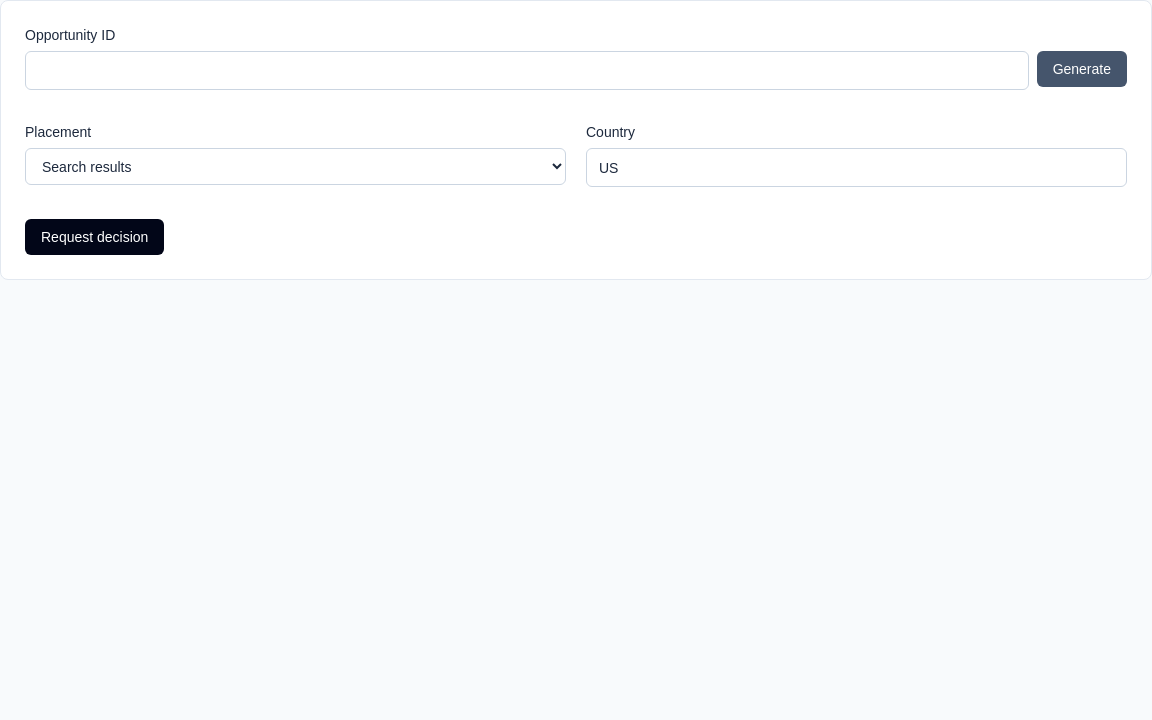
Test case: DecisionLab › shows disabled diagnostics and enabled explanations
Type "51000000-0000-4000-8000-000000000001" into the field labelled "Opportunity ID" at coordinates (527, 70), box top-left (25, 51), bottom-right (1029, 90)
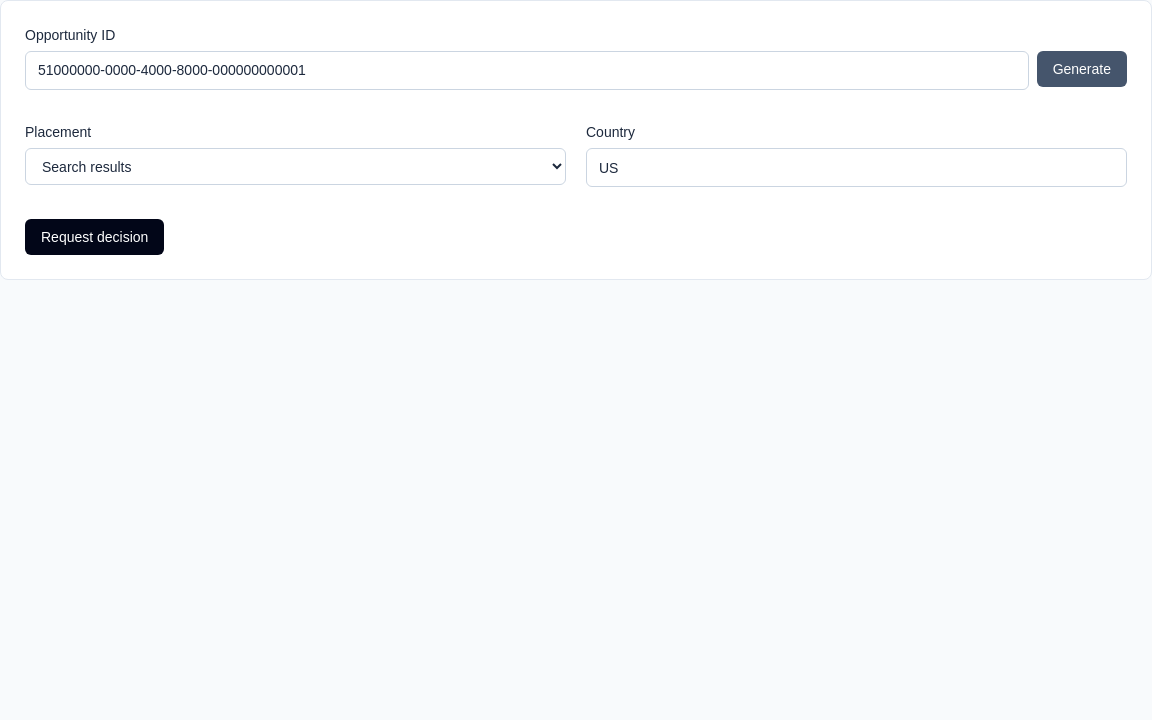
Replace the text in the field labelled "Country" with "us" at coordinates (856, 168), box top-left (586, 148), bottom-right (1127, 187)
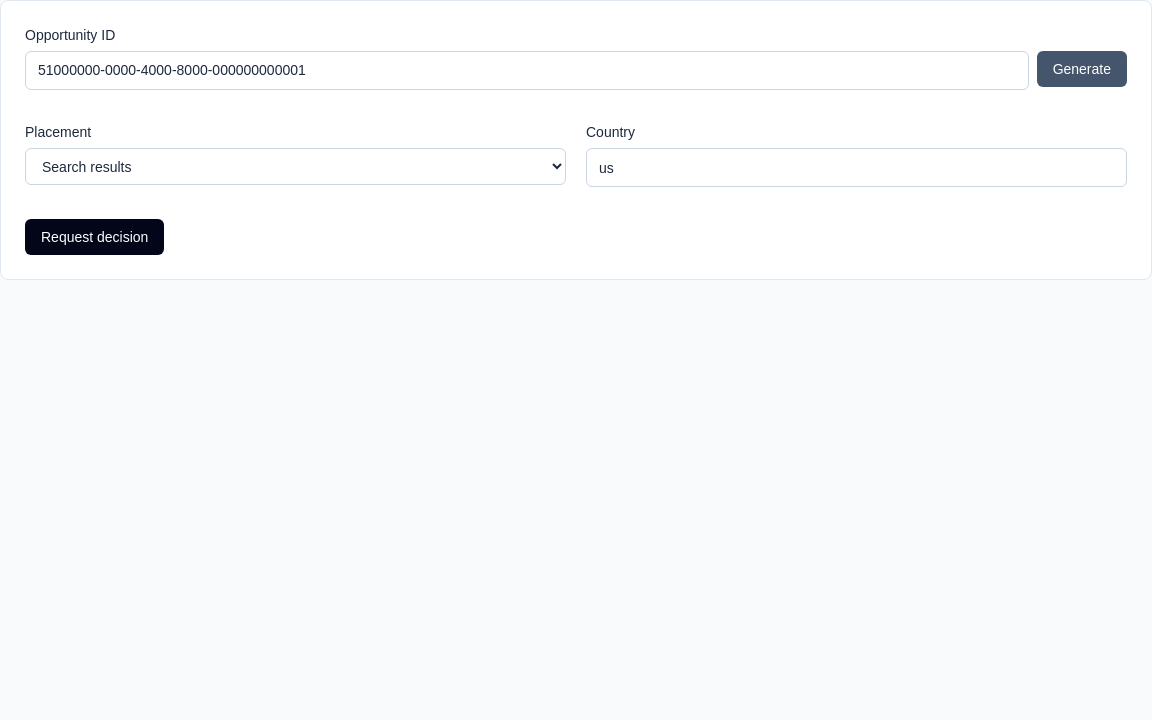
Click the button "Request decision" at coordinates (95, 237), box top-left (25, 219), bottom-right (164, 255)
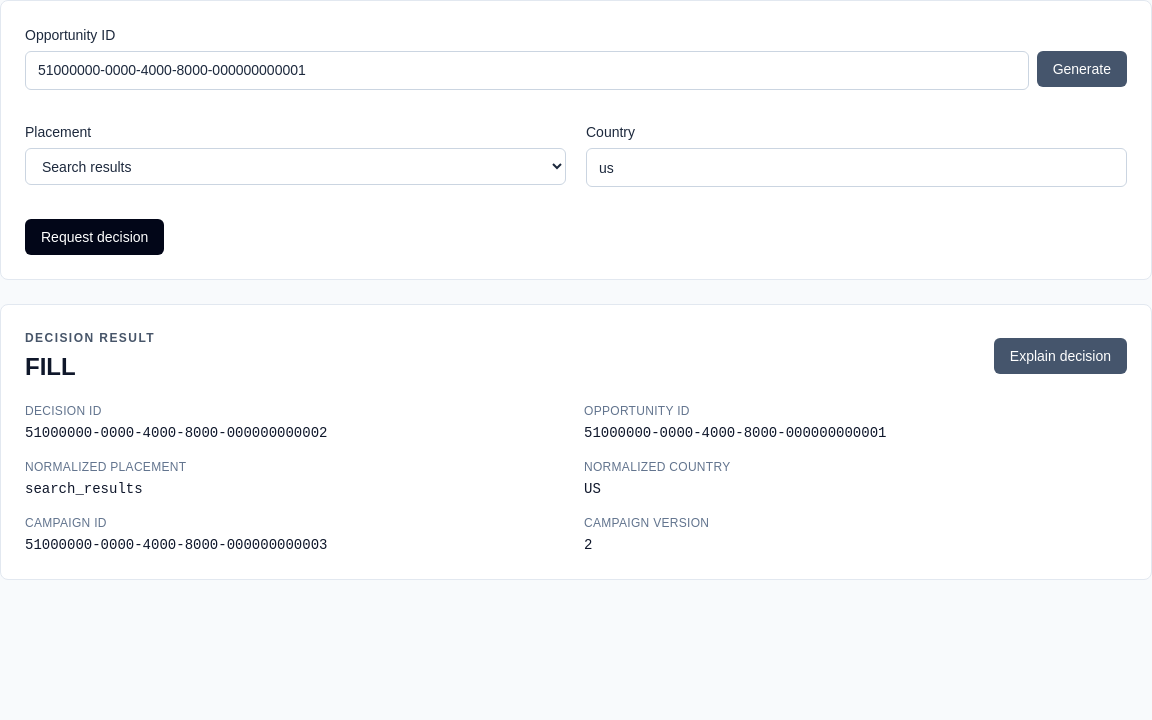
Click the button "Explain decision" at coordinates (1060, 356), box top-left (994, 338), bottom-right (1127, 374)
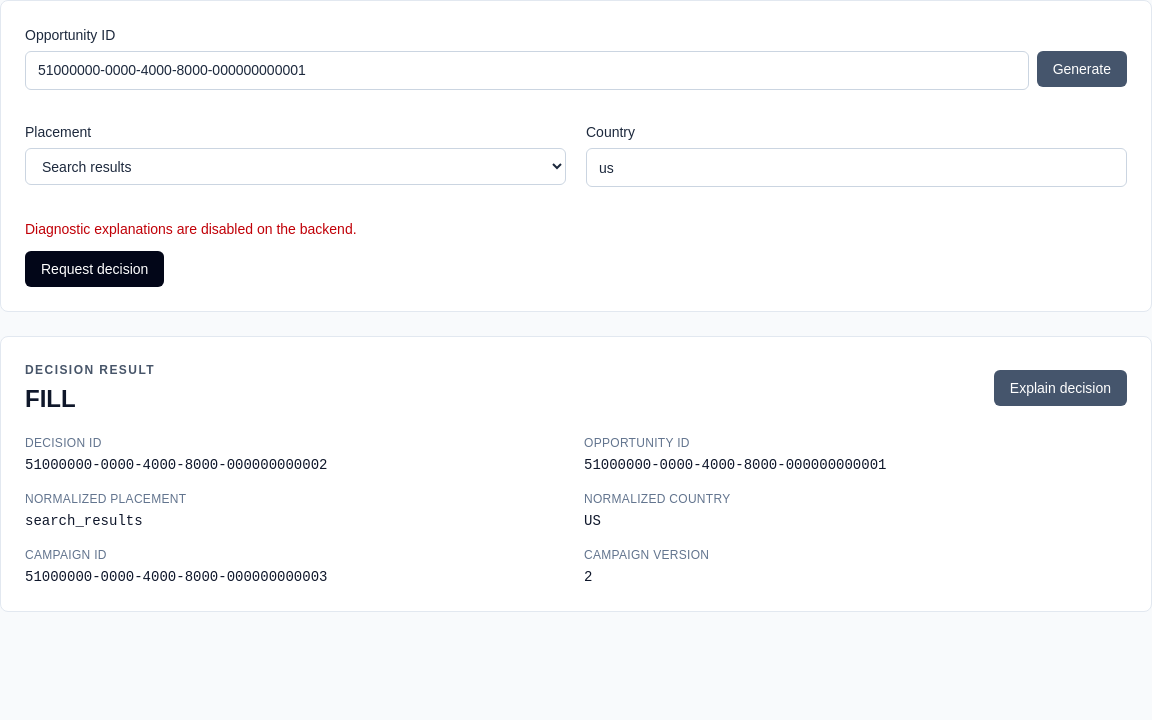
Now the message shows "disabled", box top-left (25, 221), bottom-right (357, 237)
Click the button "Explain decision" at coordinates (1060, 388), box top-left (994, 370), bottom-right (1127, 406)
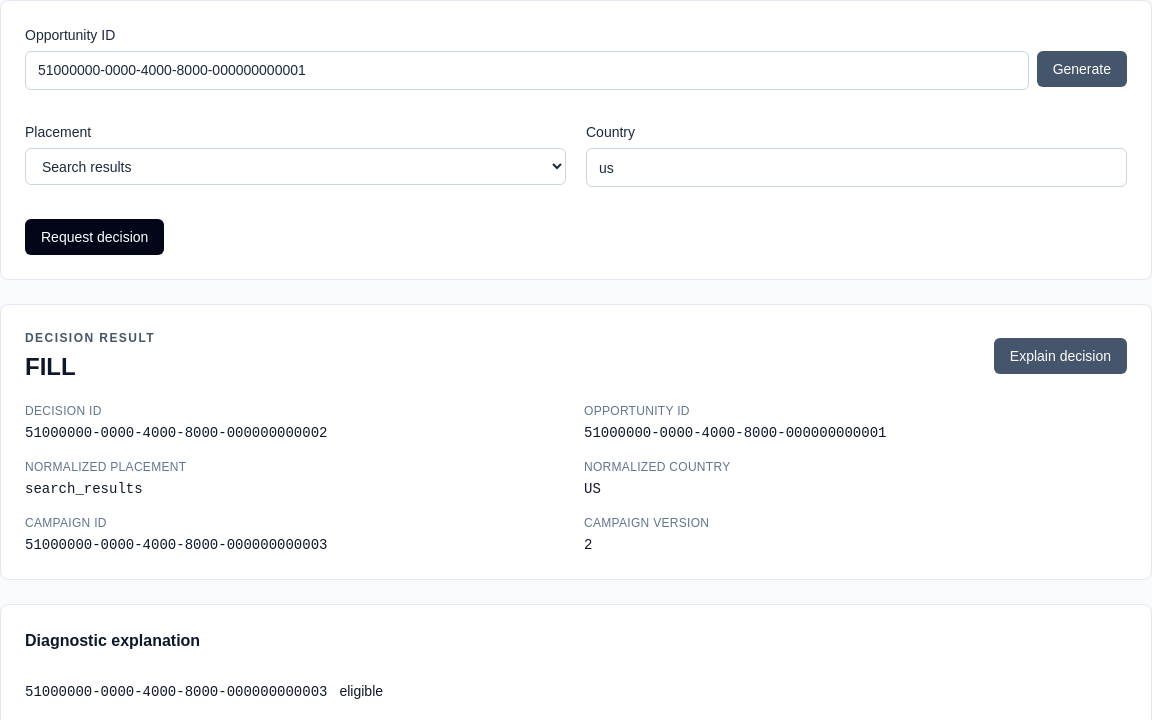
Now the heading "Diagnostic explanation" is shown, box top-left (25, 632), bottom-right (200, 649)
Now the text "eligible" is shown, box top-left (340, 683), bottom-right (383, 699)
